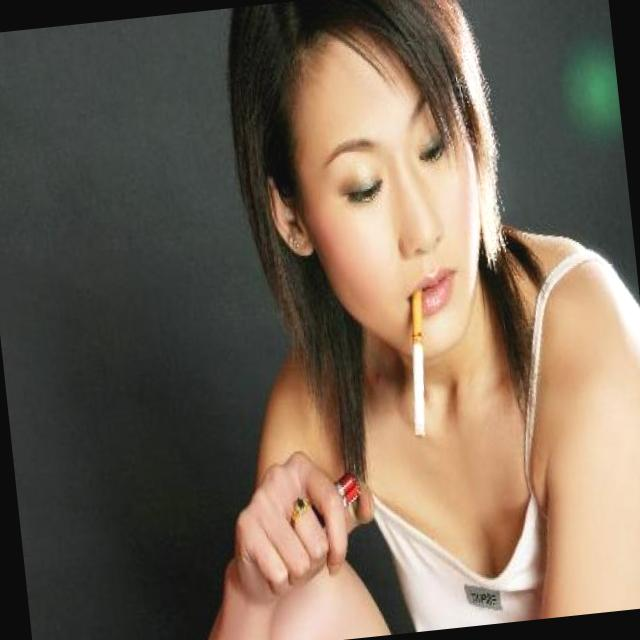smoke: (390, 276, 450, 441)
